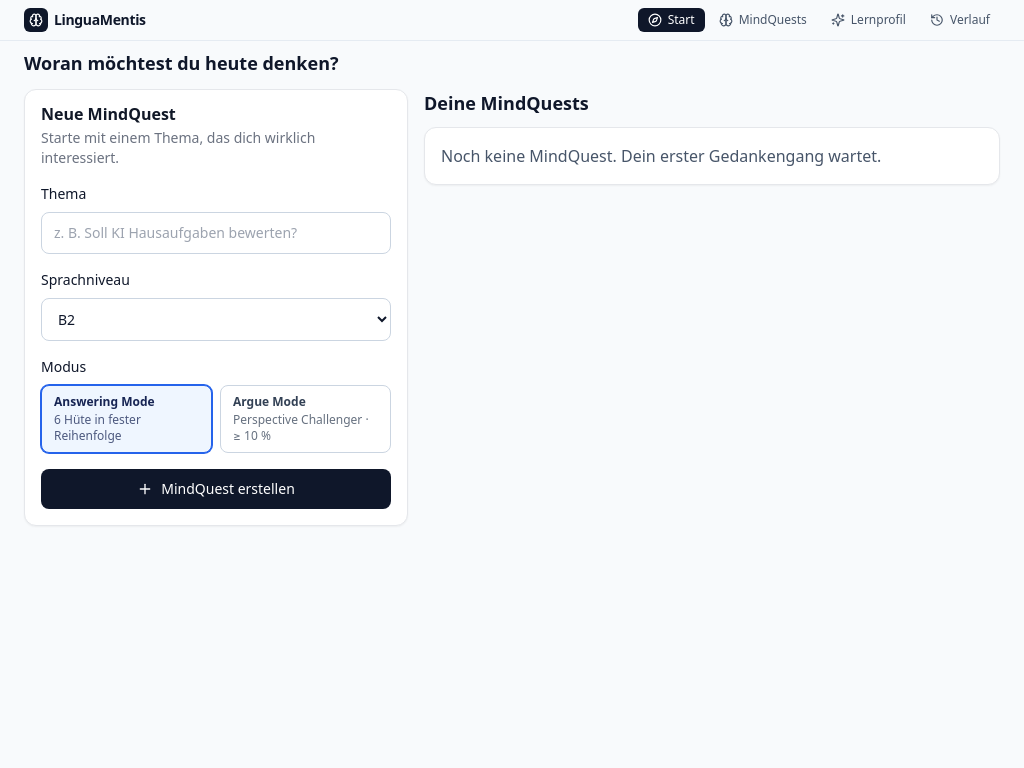
Frontend pages (Home, MindQuests list, Reflection, Learning, History) › MindQuestsPage blocks submission and reminds the user when topic is empty
Expected: the text "Noch keine MindQuest. Dein erster Gedankengang wartet." is shown, x1=441 y1=145 x2=881 y2=167
Click the button "MindQuest erstellen": point(216, 489) x1=41 y1=469 x2=391 y2=509
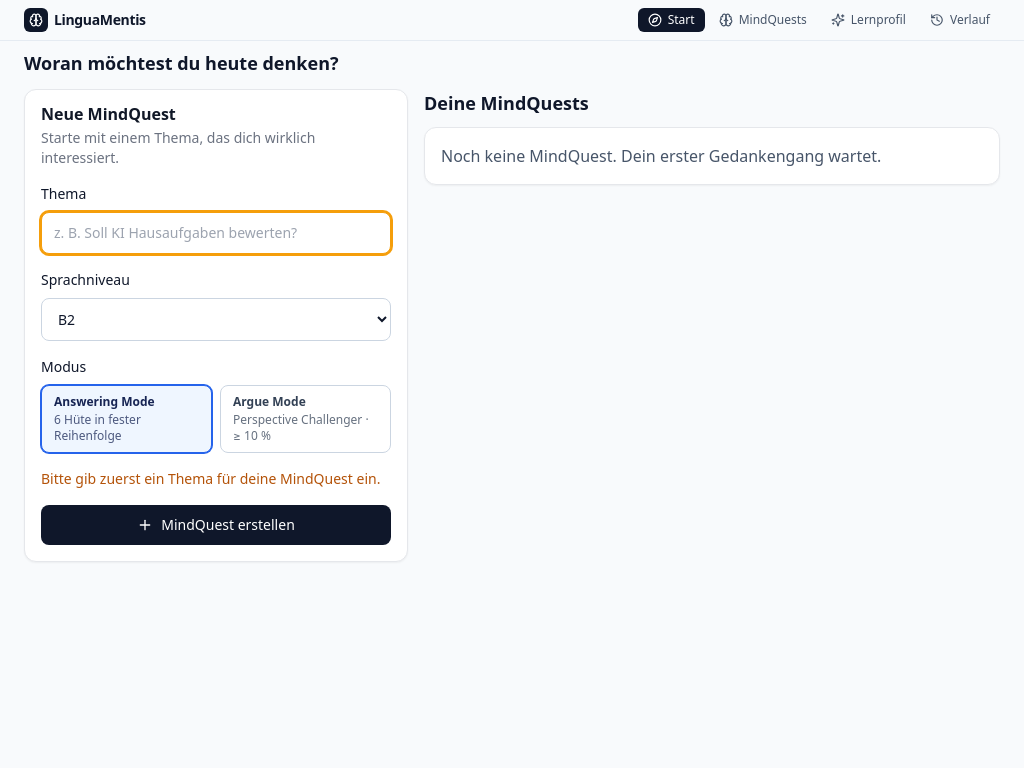
Now the text "Bitte gib zuerst ein Thema für deine MindQuest ein." is shown, box x1=41 y1=469 x2=391 y2=489
